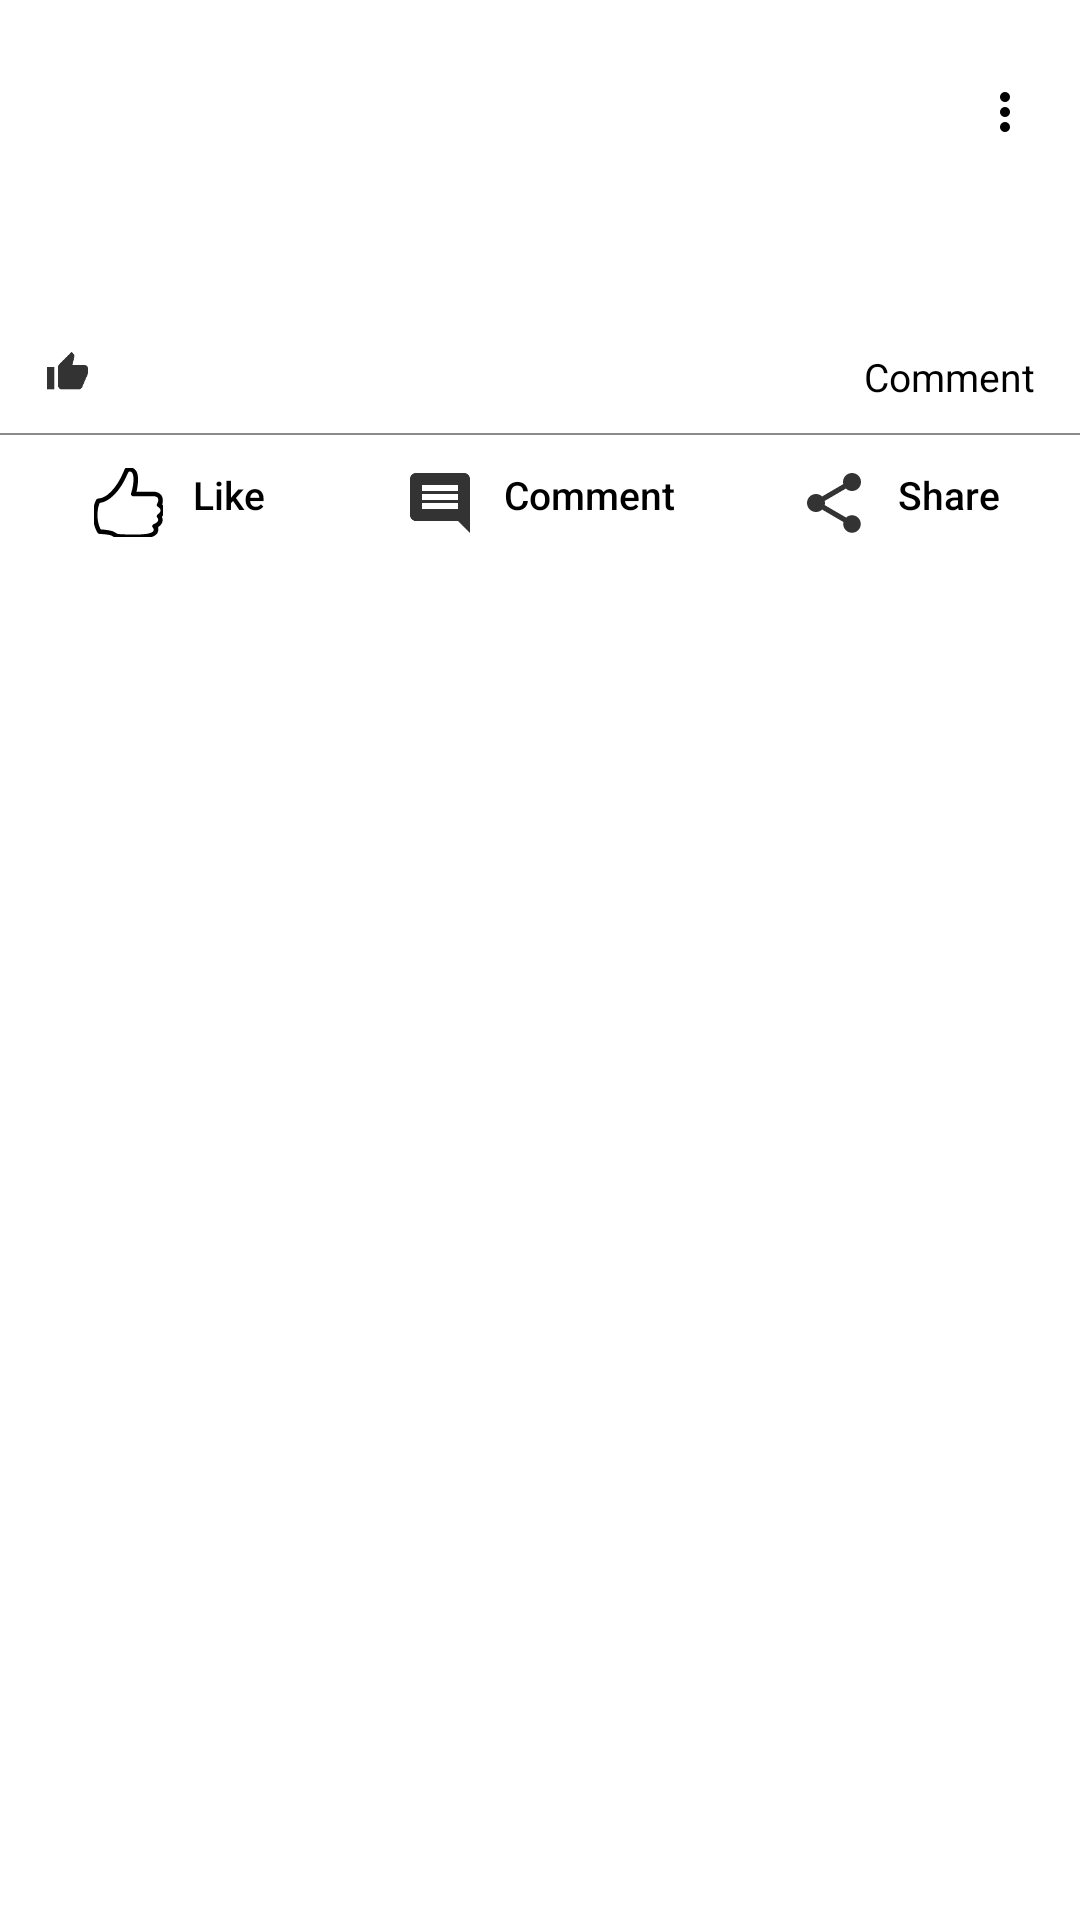

Screen size 1080*1920. Icon name, then its center in pixels as (x,y):
dots vertical: (1005,112)
